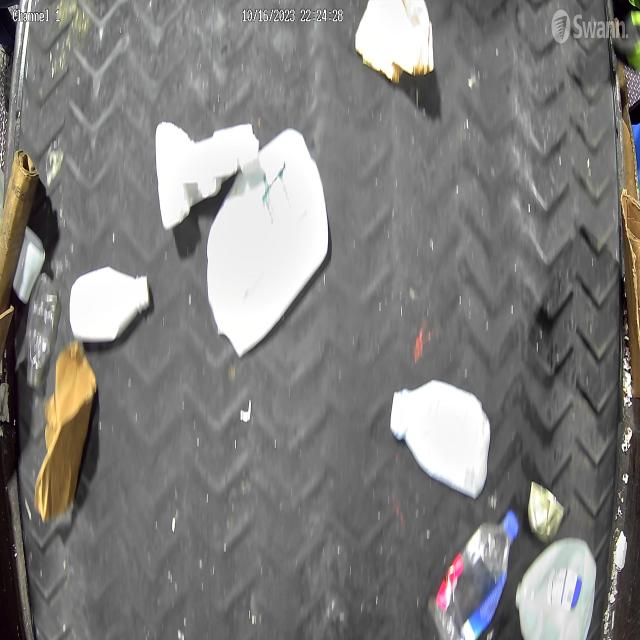can: (528, 480, 564, 544)
milk_jug: (206, 127, 328, 358), (390, 378, 491, 500), (515, 537, 597, 640)
plastic_bottle: (430, 511, 520, 639), (26, 273, 58, 391)
